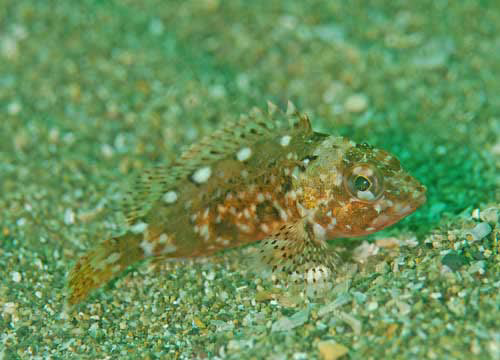kasago: (60, 120, 425, 284)
